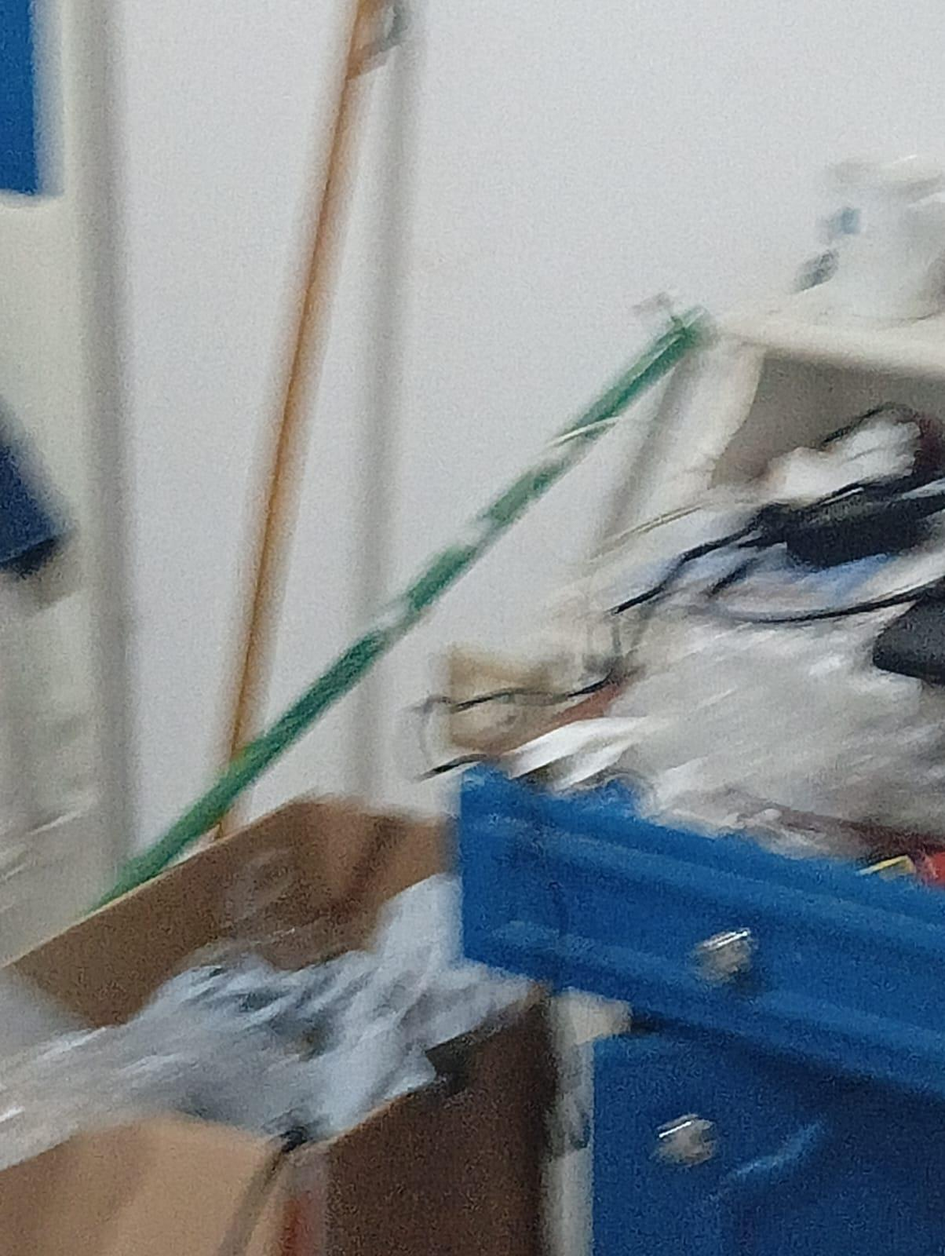cup: (827, 156, 944, 323)
